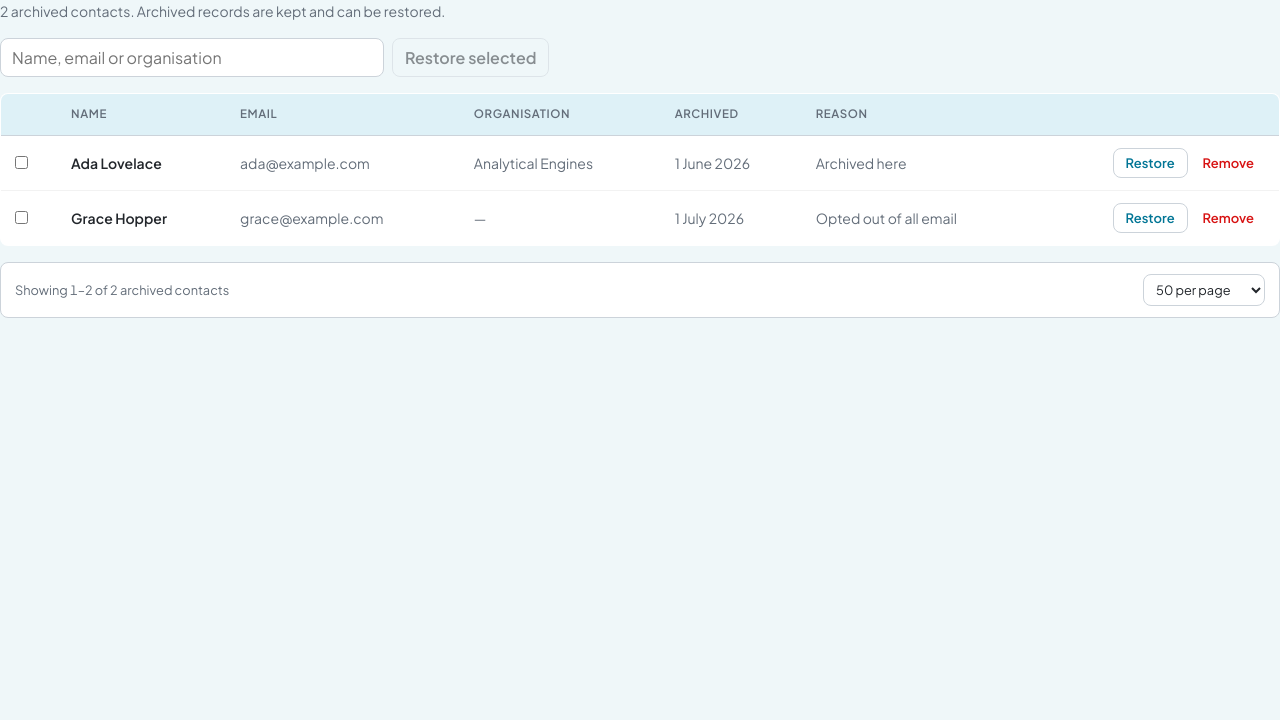
ArchiveView › names the contact a bulk restore stopped at
Click the checkbox named "Select Ada Lovelace" at (22, 162), box [15, 156, 28, 169]
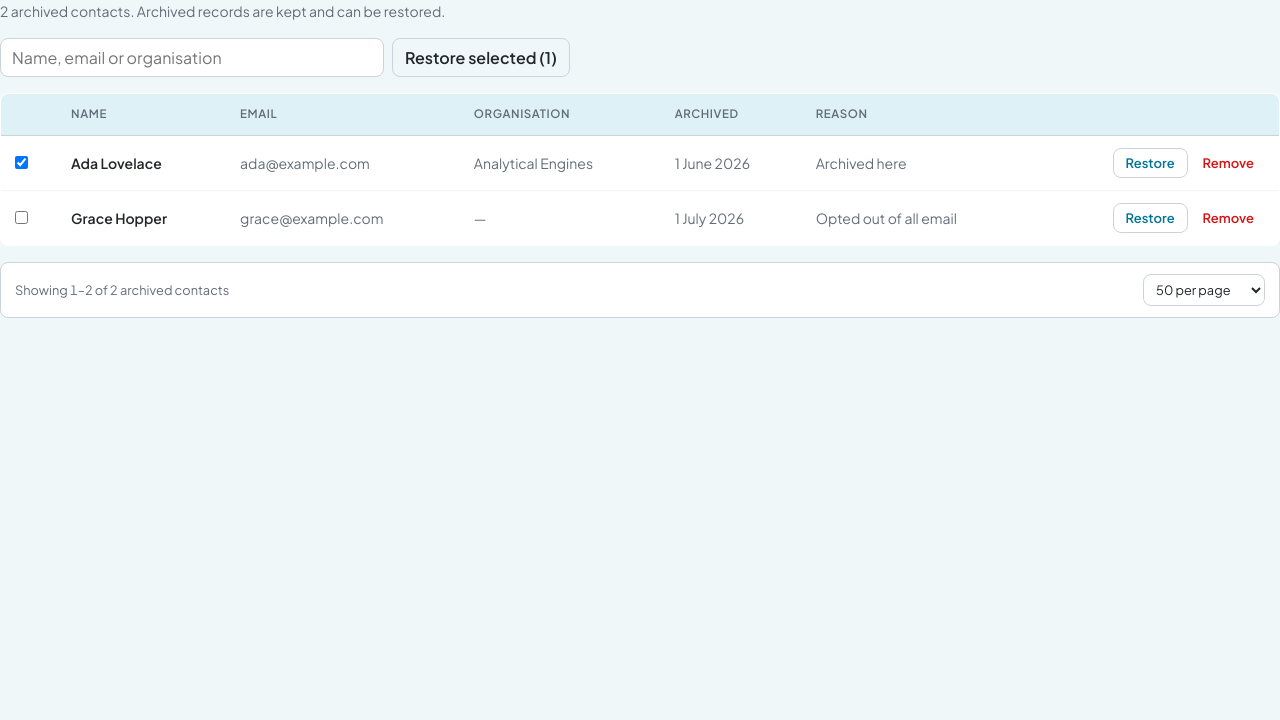
Click the checkbox named "Select Grace Hopper" at (22, 217), box [15, 211, 28, 224]
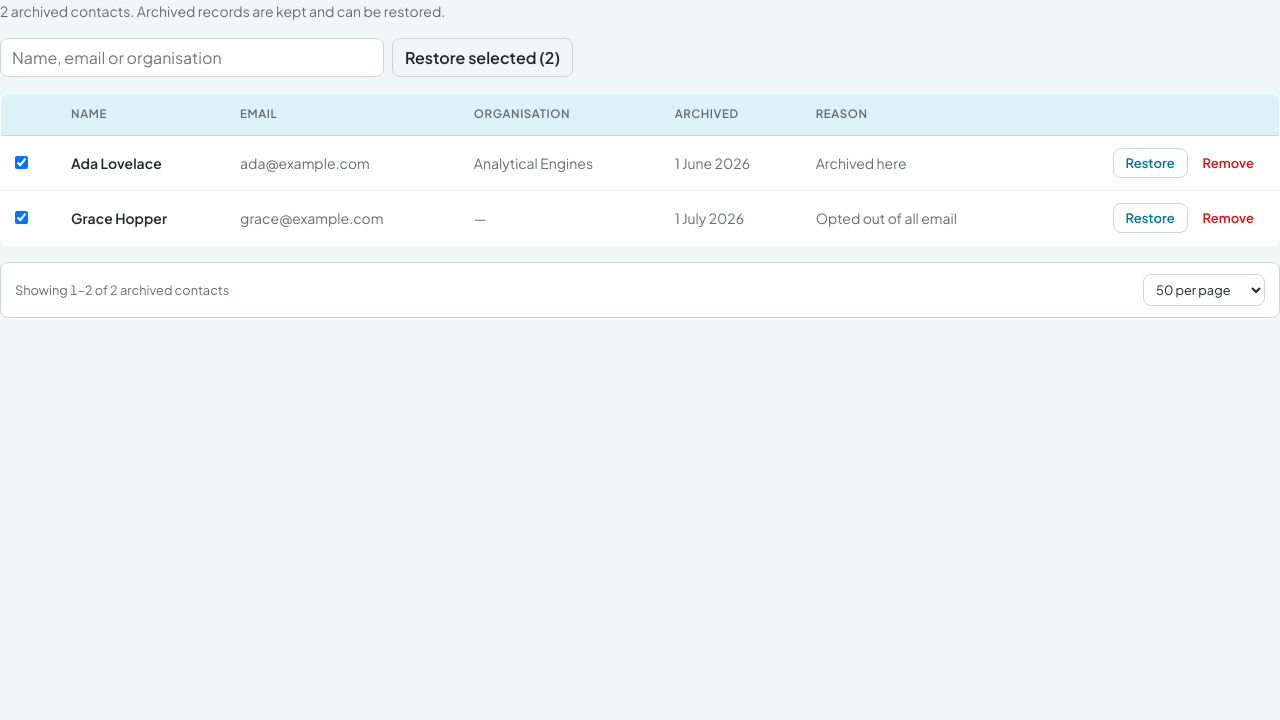
Click the button with test id "restore-selected" at (482, 58), box [392, 38, 573, 77]
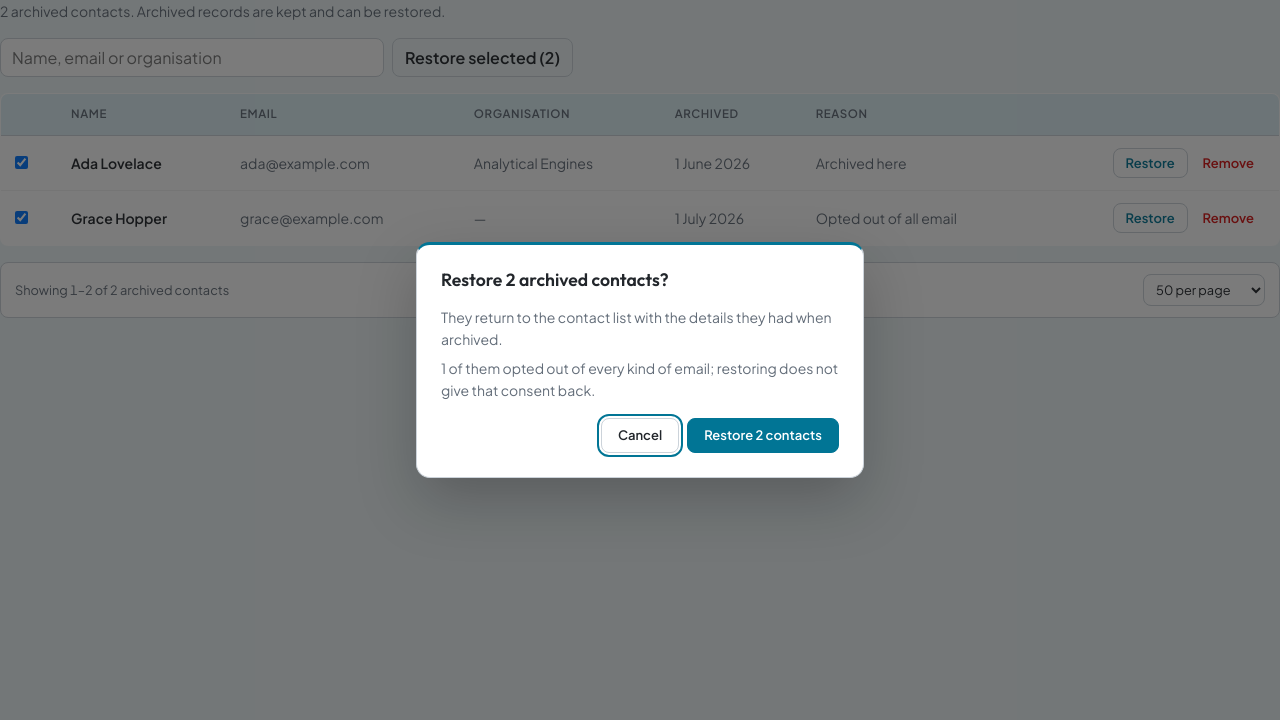
Expected: the dialog with test id "confirm-dialog" shows "They return to the contact list", [441, 308, 832, 348]
Click the button with test id "confirm-dialog-confirm" at (763, 435), box [687, 418, 839, 453]
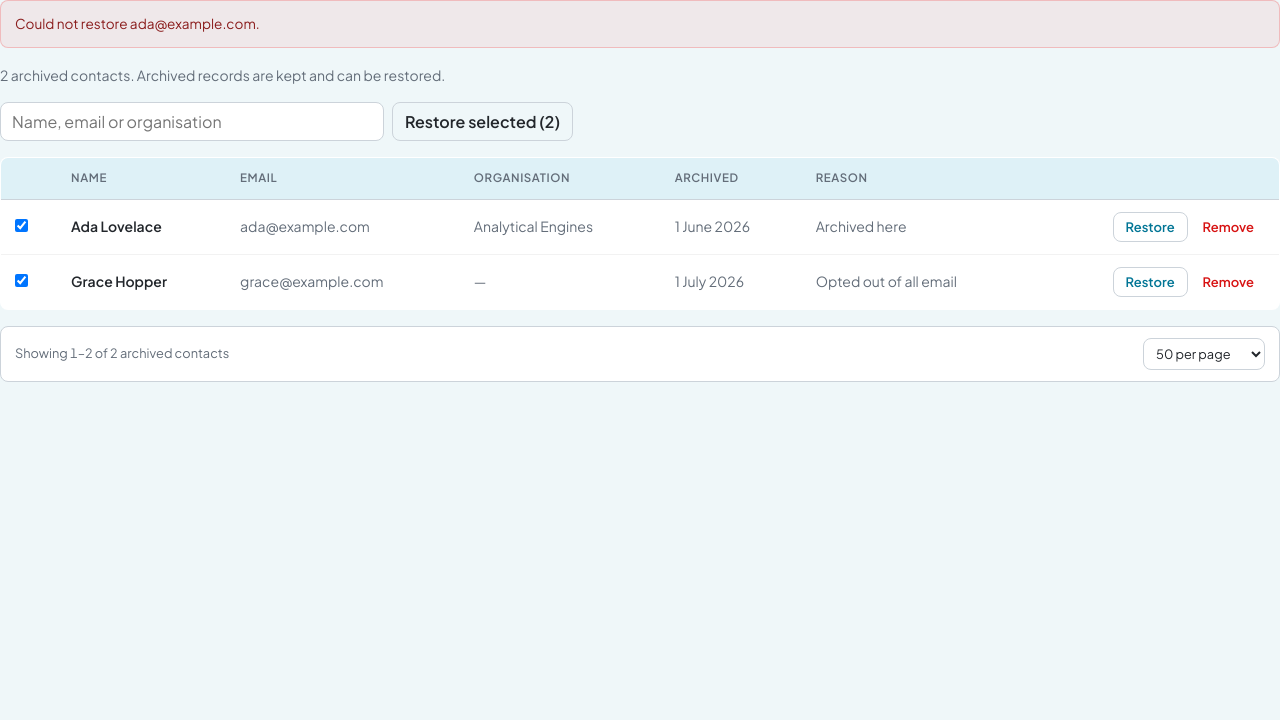
Expected: the message with test id "archive-error" reads "Could not restore ada@example.com.", [15, 15, 260, 32]
